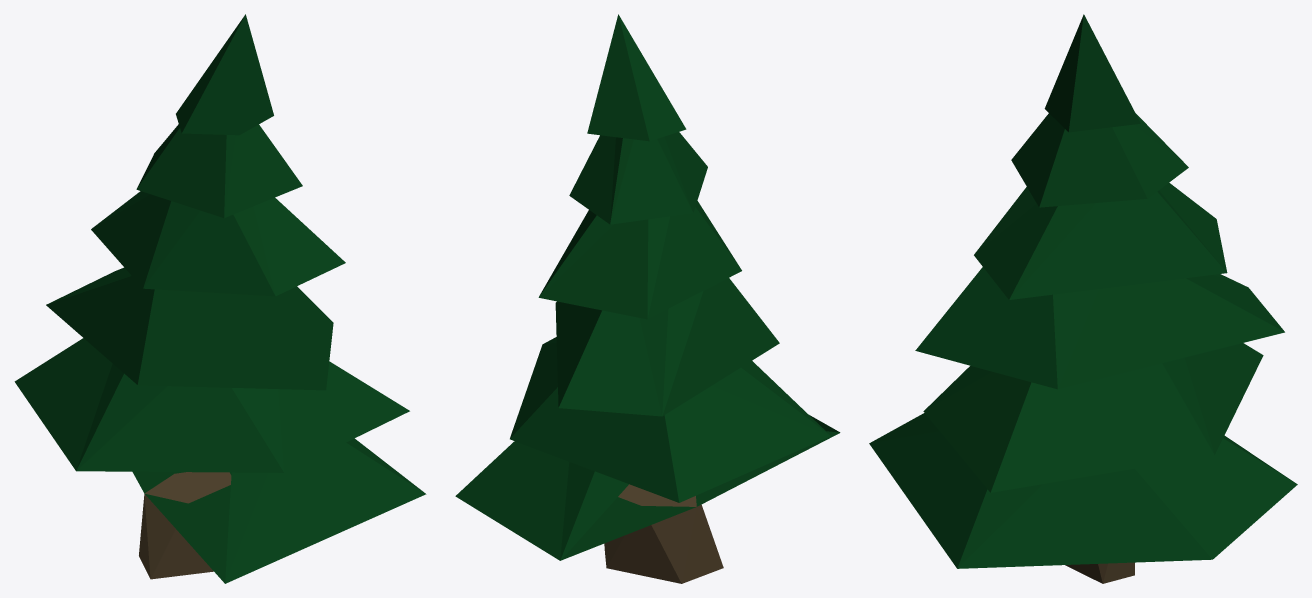
Rendered from evergreen-tree-2.glb.
3 views of the same model, side by side, from view 1: azimuth 30°, elevation 25°; view 2: azimuth 150°, elevation 25°; view 3: azimuth 270°, elevation 25° (orthographic). The views are drawn at different scales.
Visible parts, largest first — view 1: Sketchup; view 2: Sketchup; view 3: Sketchup.
Part boxes in pixels (x1,y1,x2,y2): Sketchup: [14, 14, 426, 583]; Sketchup: [455, 14, 840, 583]; Sketchup: [869, 14, 1297, 583].
Size of the model in its own units: 1.48 by 2.43 by 1.66.
